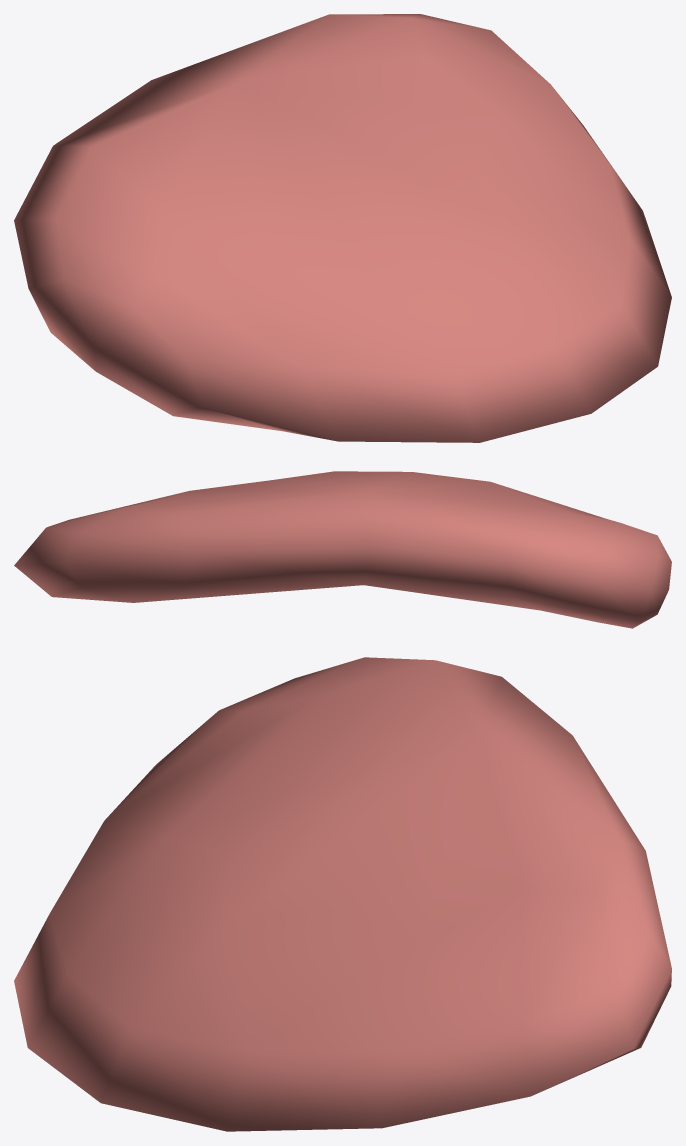
3 renders of one model, top to bottom at view 1: azimuth 30°, elevation 25°; view 2: azimuth 150°, elevation 25°; view 3: azimuth 270°, elevation 25°, orthographic. The views are drawn at different scales.
Visible parts, largest first — view 1: ZA_38f64605bc829df0; view 2: ZA_38f64605bc829df0; view 3: ZA_38f64605bc829df0.
Boxes of the visible parts, <box> form: ZA_38f64605bc829df0: <box>14,14,671,442</box>; ZA_38f64605bc829df0: <box>14,471,671,628</box>; ZA_38f64605bc829df0: <box>14,657,671,1131</box>.
Bounding box in the file's own units: 0.00286 × 0.000989 × 0.00234.
